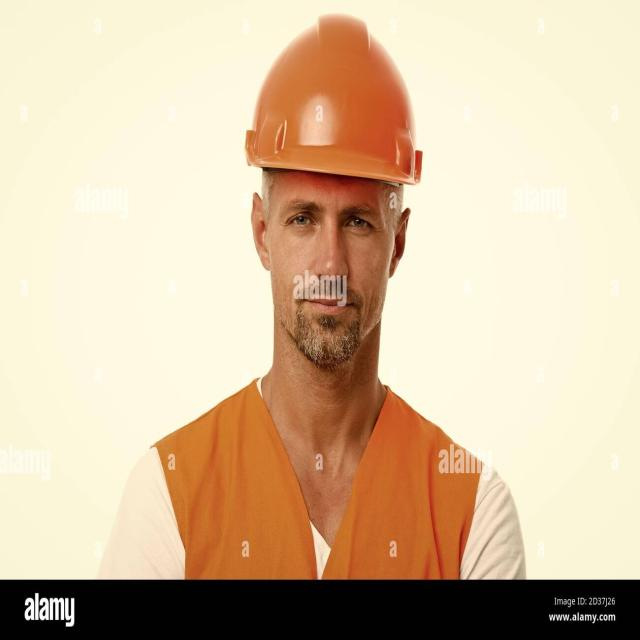helmet: (242, 12, 426, 190)
no-goggles: (251, 186, 407, 236)
